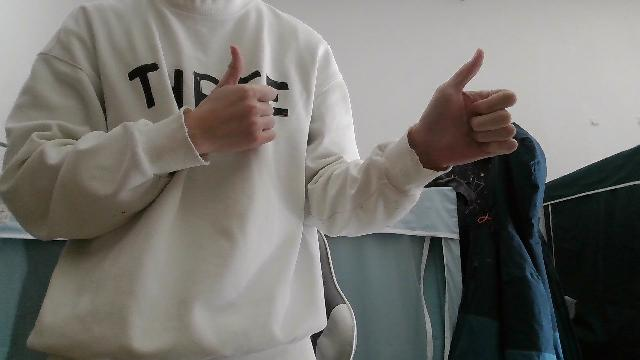good: (408, 46, 520, 170), (186, 42, 280, 155)
